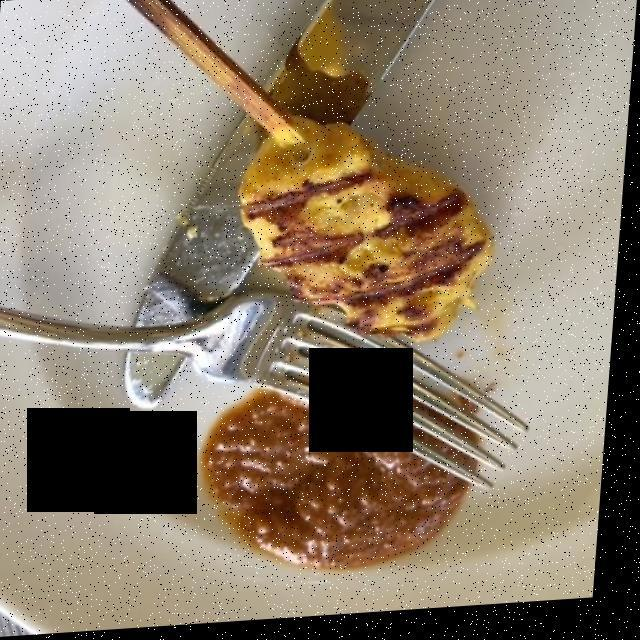chicken: (240, 126, 485, 343)
